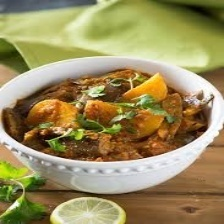sabzi: (0, 67, 214, 165)
